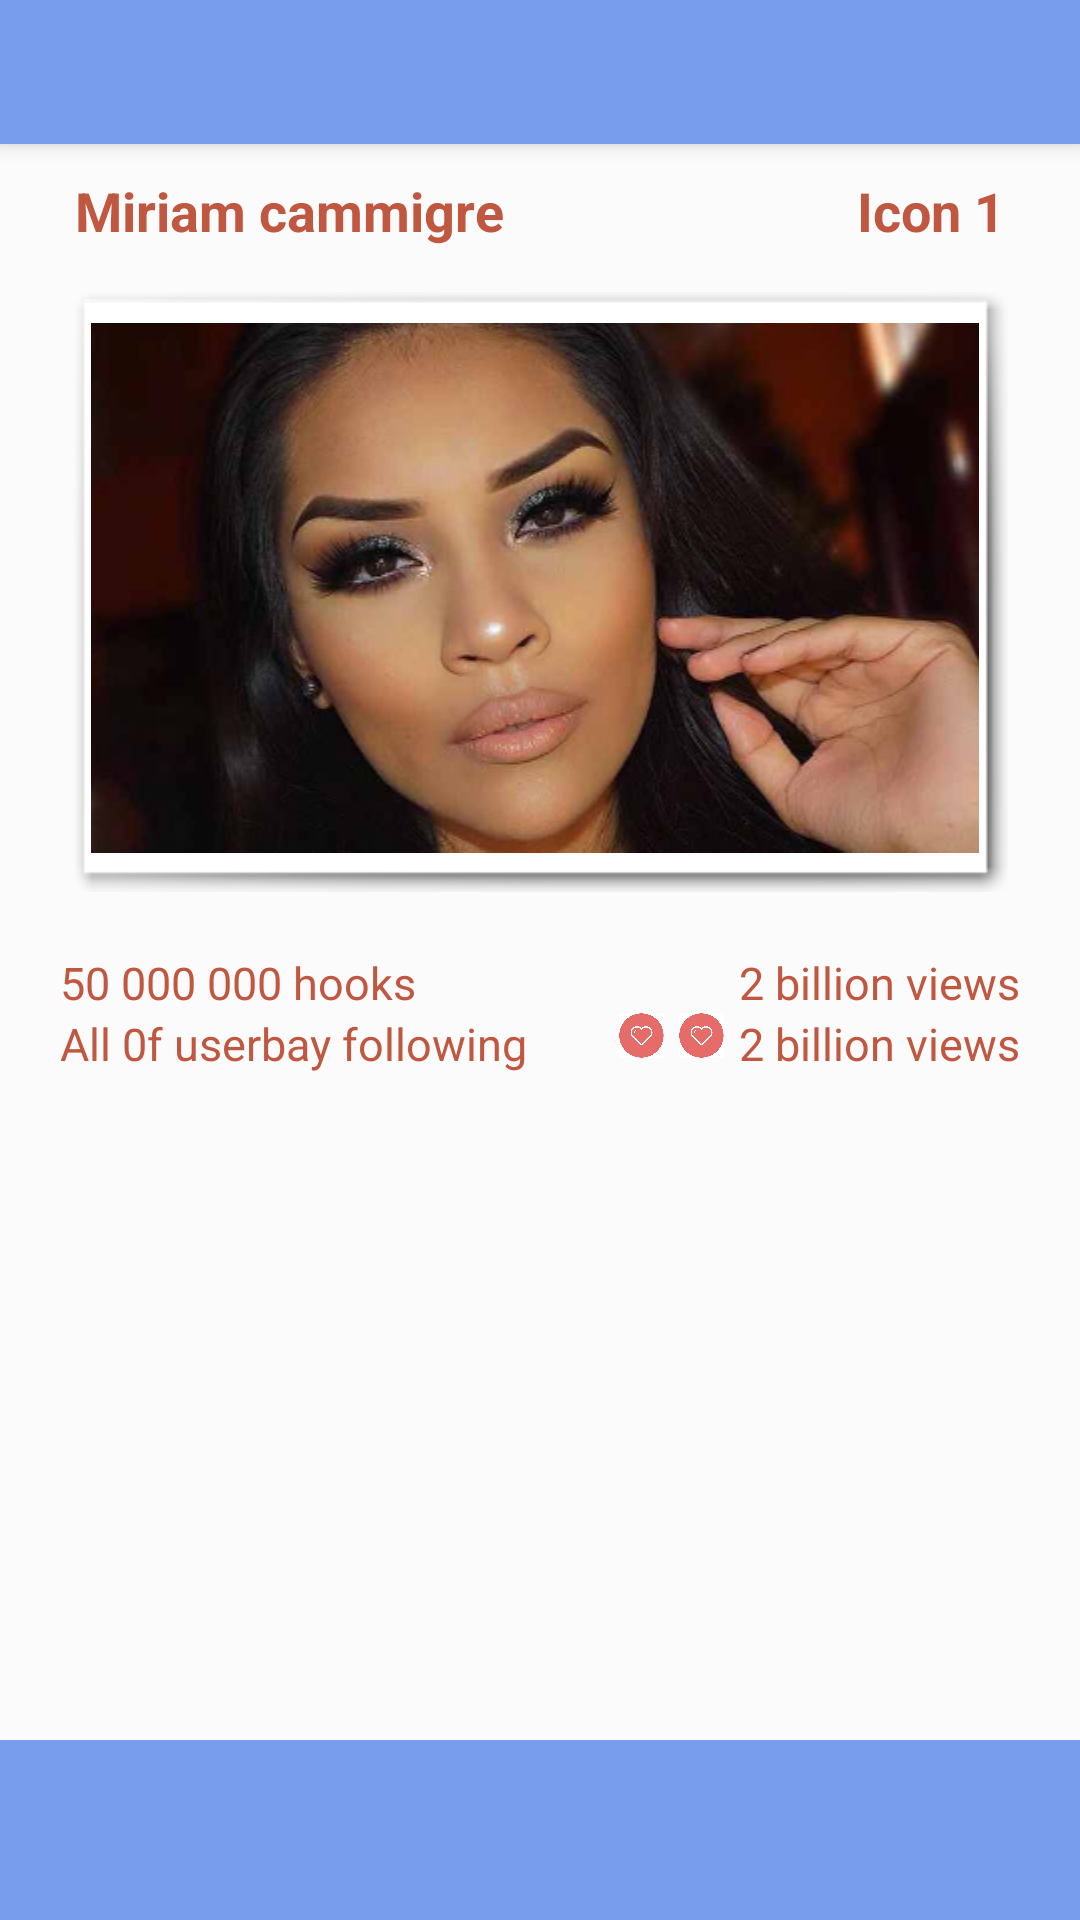

Named icons in this screenshot (1080x1920) and their centers, [x,y]:
likee: [641,1035], [701,1035]
